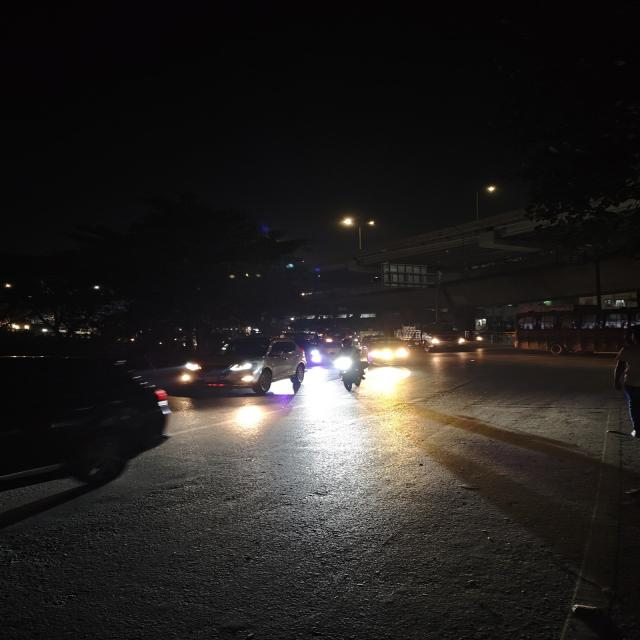bus: (513, 311, 626, 353), (361, 332, 409, 366)
car: (174, 335, 309, 400)
motorcycle: (326, 337, 373, 396)
pickup_van: (398, 321, 472, 352)
